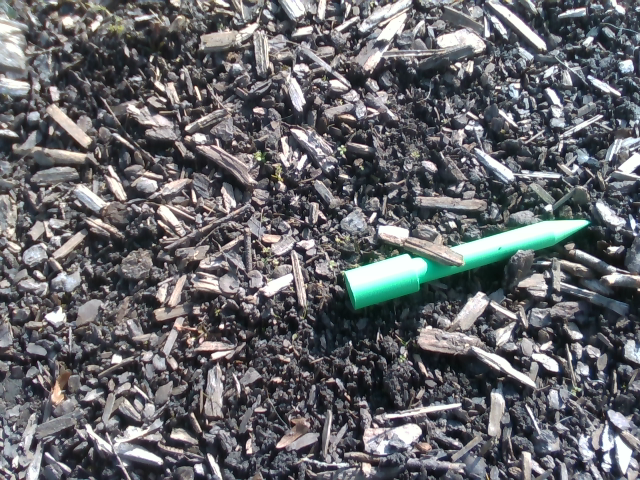Probe: (333, 204, 598, 319)
